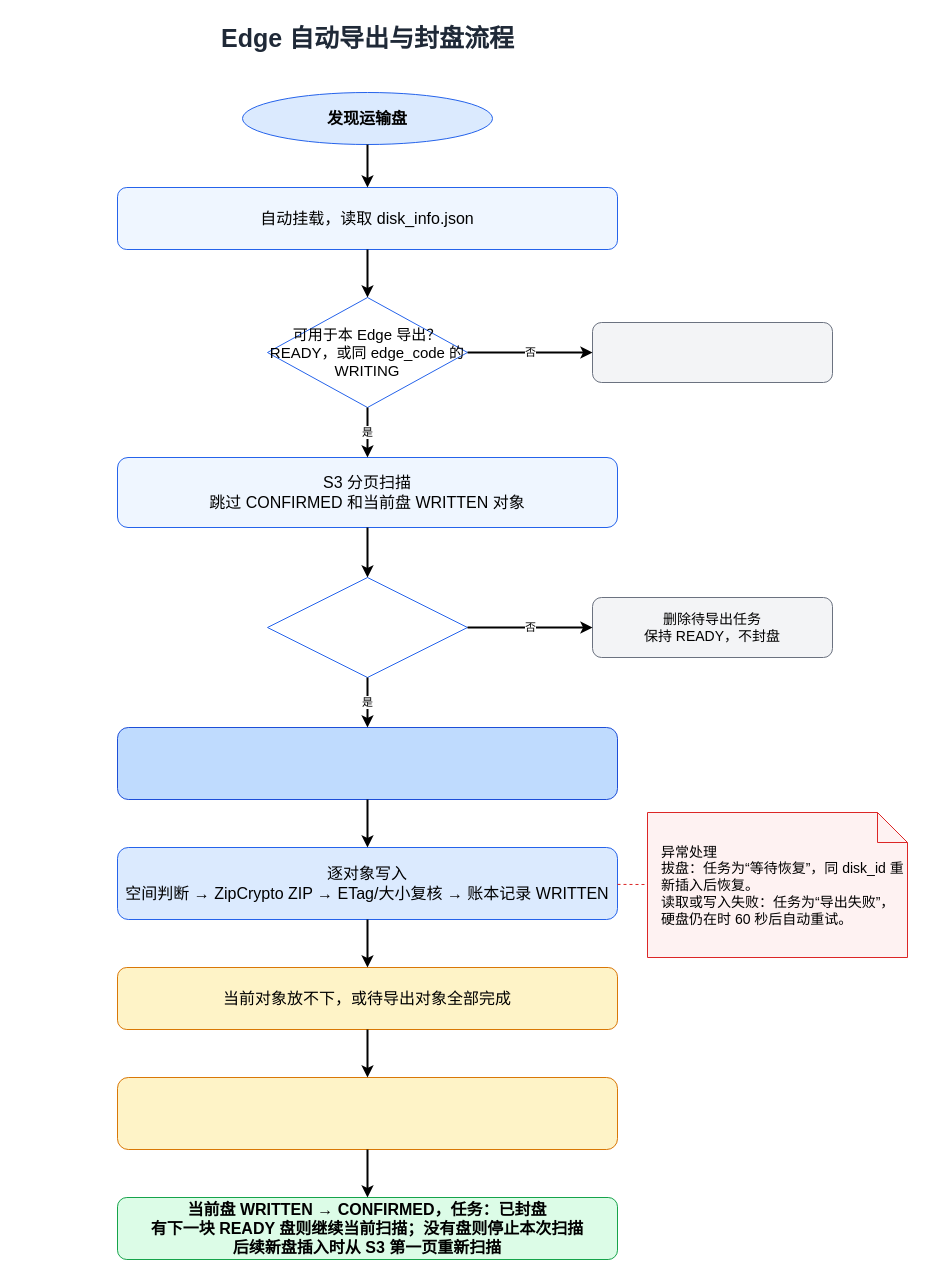
Some shapes in this 925 by 1277 pixel diagram are drawn without their labels. Here are the shapes that lost their labels. From the top down, the centre of each, then its label:
point 712,352: SEALED 或其他站点 WRITING 仅展示，不写入
point 367,627: 有待导出对象？
point 367,763: READY：首次写入 Edge 信息，转为 WRITING WRITING：盘与 Edge 运行时账本对账后恢复
point 367,1113: 封盘 生成 manifest.zip 与 SHA256；最后将 disk_info.json.state 写为 SEALED
